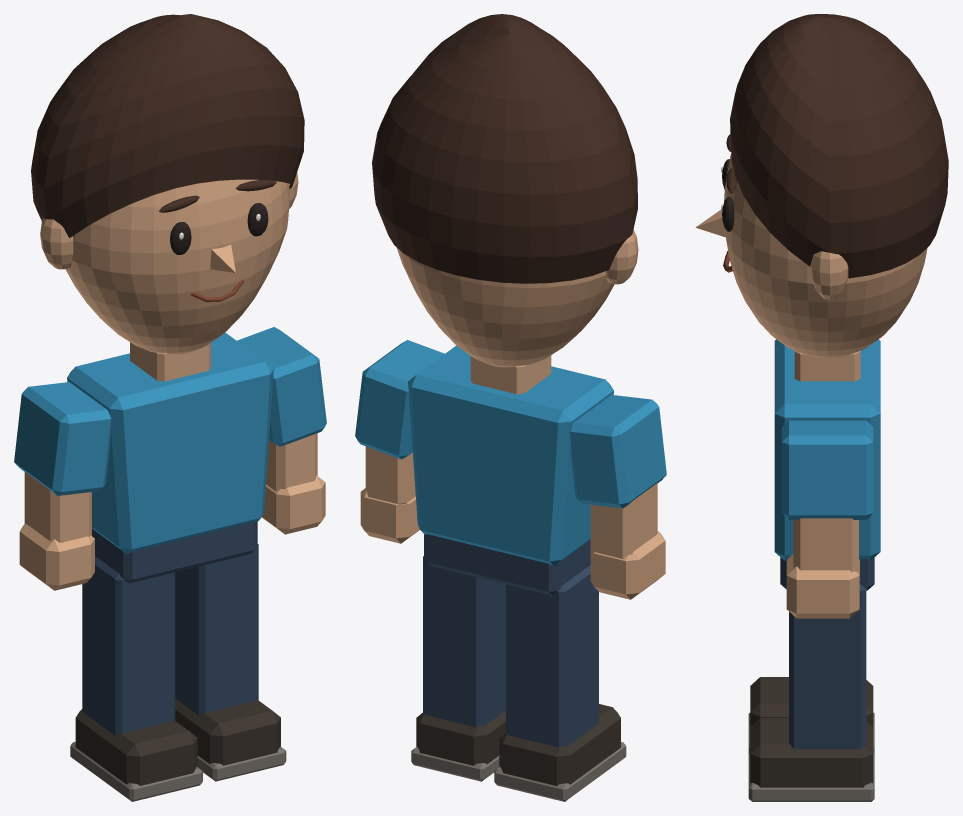
Rendered from avatar-mii-kenney-cabelo-volumoso-01.glb.
3 views of the same model, side by side, from view 1: azimuth 30°, elevation 25°; view 2: azimuth 150°, elevation 25°; view 3: azimuth 270°, elevation 25° (orthographic).
Parts seen in each view (by area): view 1: Cabelo_volumoso_01, Corpo_01, Cabeca_01, Perna_L, Perna_R, Manga, Sapato_L, Manga.001, Quadril, Sapato_R, Mao, Antebraco (+8 smaller); view 2: Cabelo_volumoso_01, Corpo_01, Perna_L, Cabeca_01, Perna_R, Manga, Manga.001, Quadril, Sapato_L, Sapato_R, Antebraco, Mao (+6 smaller); view 3: Cabelo_volumoso_01, Cabeca_01, Perna_R, Manga.001, Corpo_01, Sapato_R, Mao.001, Antebraco.001, Sola.001, Sapato_L, Pescoco, Orelha_R (+1 smaller).
Boxes of the visible parts, x1,y1,x2,y2 form: Cabelo_volumoso_01: (31, 14, 304, 238); Corpo_01: (67, 332, 273, 554); Cabeca_01: (65, 179, 289, 354); Perna_L: (82, 556, 175, 735); Perna_R: (175, 544, 258, 715); Manga: (14, 382, 111, 495); Sapato_L: (75, 709, 197, 785); Manga.001: (237, 327, 326, 446); Quadril: (92, 521, 257, 583); Sapato_R: (175, 698, 280, 765); Mao: (19, 524, 94, 590); Antebraco: (24, 471, 91, 542); Cabelo_volumoso_01: (372, 14, 637, 283); Corpo_01: (408, 345, 613, 566); Perna_L: (506, 565, 598, 747); Cabeca_01: (396, 247, 614, 367); Perna_R: (423, 556, 505, 727); Manga: (569, 395, 666, 508); Manga.001: (355, 340, 444, 459); Quadril: (424, 534, 590, 595); Sapato_L: (499, 704, 620, 785); Sapato_R: (416, 710, 505, 765); Antebraco: (590, 483, 657, 558); Mao: (590, 531, 665, 599); Cabelo_volumoso_01: (730, 14, 948, 278); Cabeca_01: (724, 154, 927, 358); Perna_R: (789, 584, 866, 749); Manga.001: (781, 420, 873, 519); Corpo_01: (774, 339, 880, 560); Sapato_R: (750, 718, 873, 787); Mao.001: (786, 554, 859, 618); Antebraco.001: (793, 518, 858, 572); Sola.001: (748, 754, 874, 801); Sapato_L: (750, 677, 873, 726); Pescoco: (794, 351, 860, 381); Orelha_R: (810, 251, 848, 299).
Bounding box in the file's own units: 1.14 × 2.9 × 0.8852.
